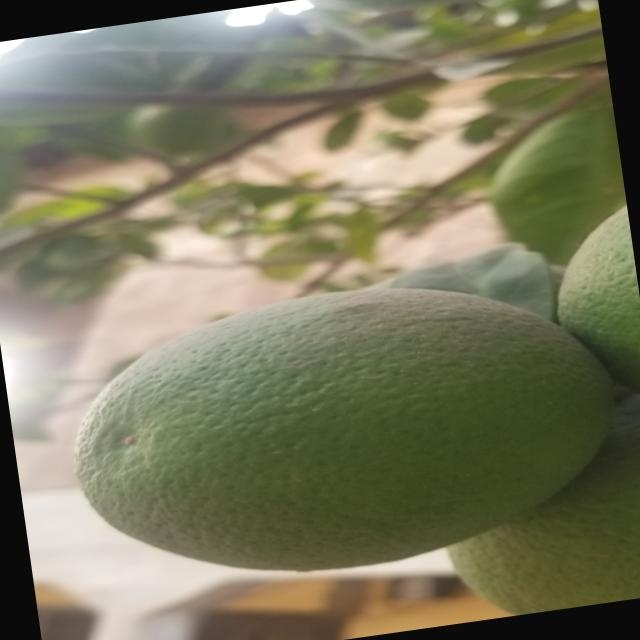agrume: (61, 259, 603, 597), (434, 400, 640, 617), (547, 211, 640, 408)
